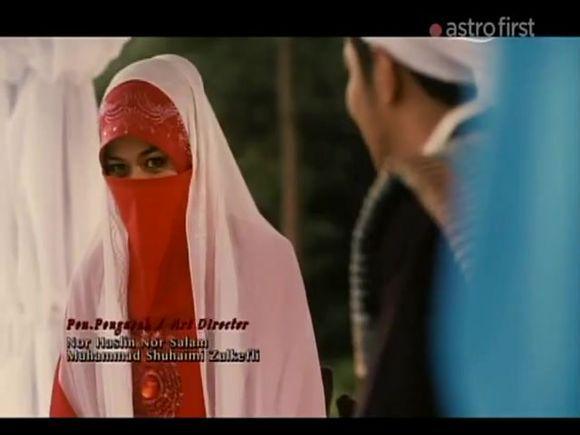OK: (107, 147, 182, 222)
